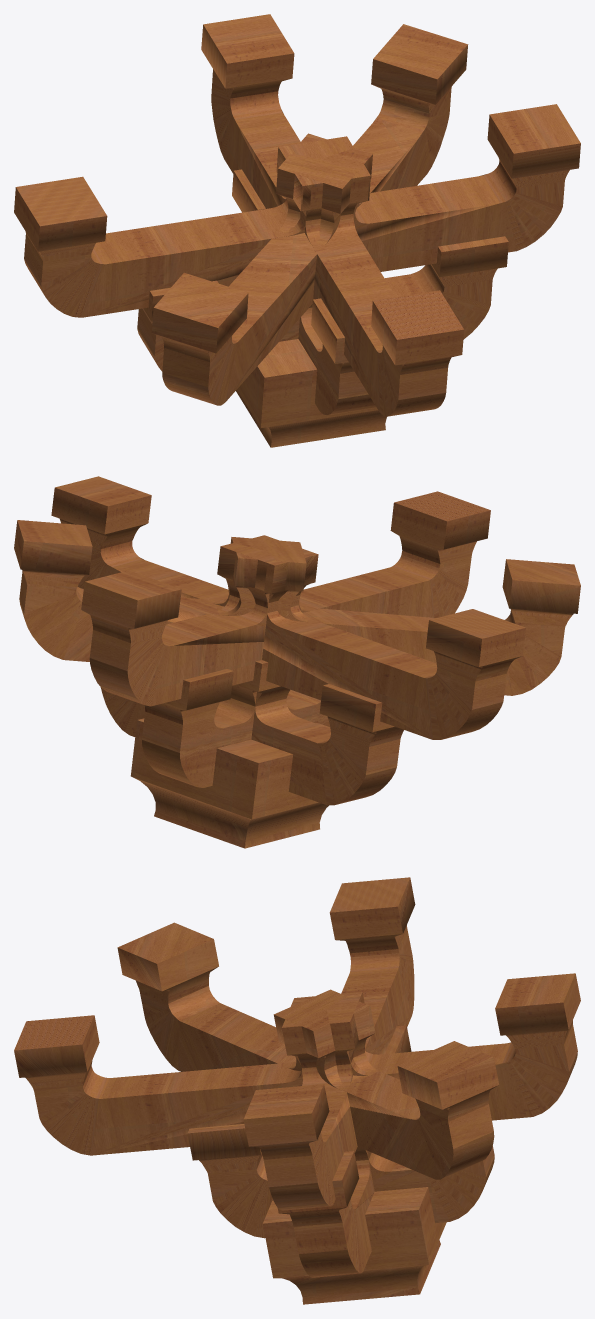
The picture shows the model from 3 angles, top to bottom: view 1: azimuth 30°, elevation 25°; view 2: azimuth 150°, elevation 25°; view 3: azimuth 270°, elevation 25°; orthographic projection. The views are drawn at different scales.
Visible parts, largest first — view 1: R1L3; view 2: R1L3; view 3: R1L3.
Boxes of the visible parts, x1,y1,x2,y2 form: R1L3: (14, 14, 580, 447); R1L3: (14, 476, 580, 848); R1L3: (14, 877, 580, 1304).
Size of the model in its own units: 48.58 by 29.12 by 48.25.
1 material, 1 textured.
